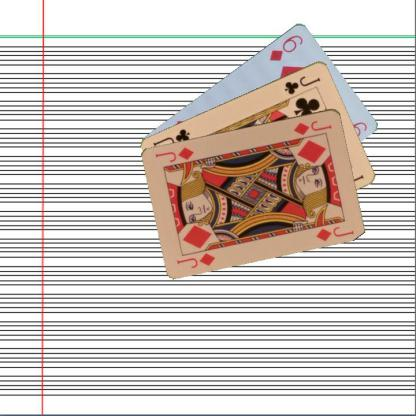6d: (267, 32, 304, 62)
Jc: (282, 73, 322, 95)
Jd: (292, 117, 334, 136), (174, 250, 216, 269)
